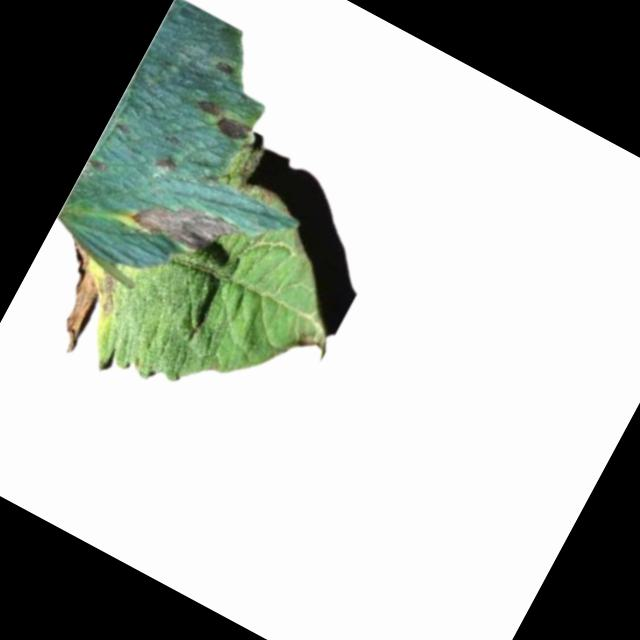Early_blight: (27, 236, 132, 360), (126, 176, 241, 271), (189, 96, 256, 146), (153, 150, 178, 175)
